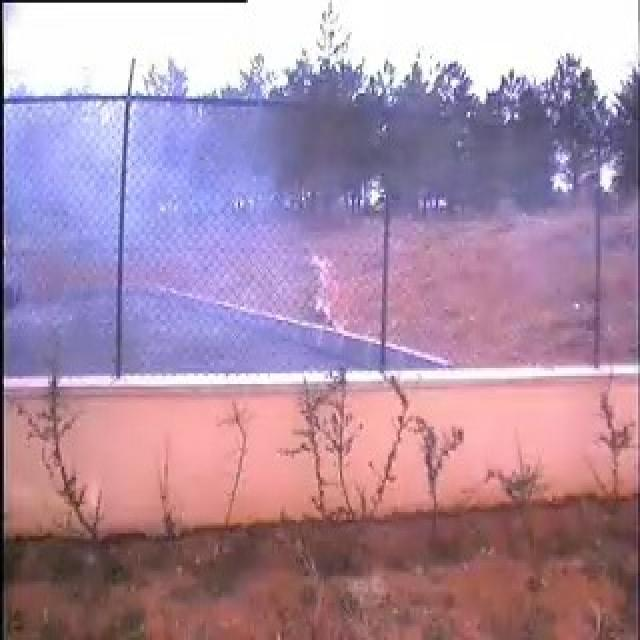smoke: (42, 108, 288, 356)
